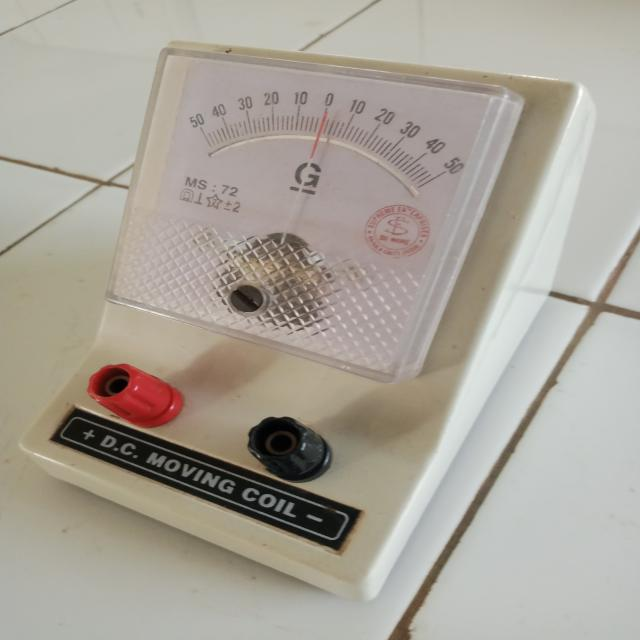Galvanometer: (10, 29, 598, 608)
